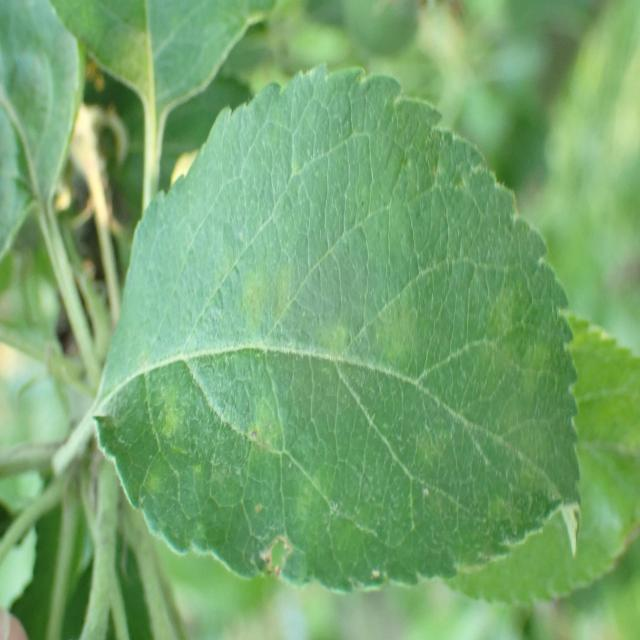scab: (147, 164, 578, 584)
